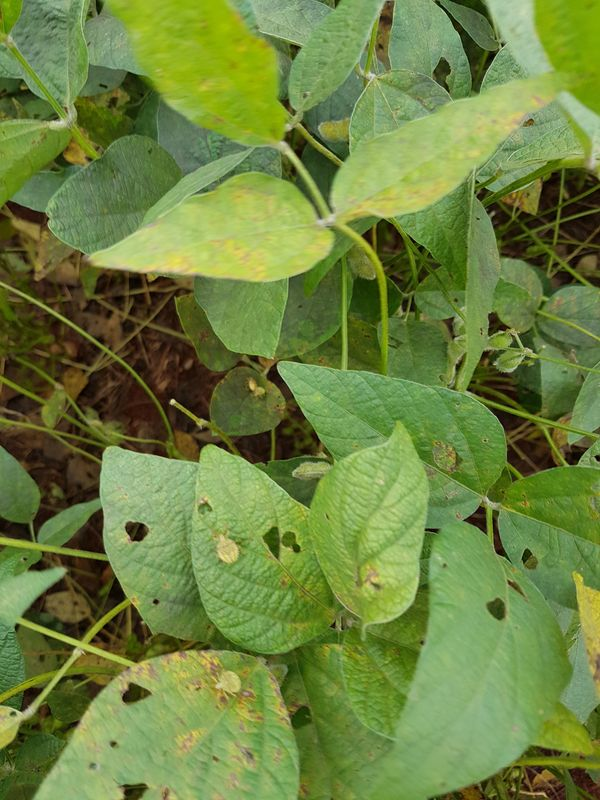Euschistus_heros_ninfa: (206, 523, 251, 570), (204, 664, 249, 707)
